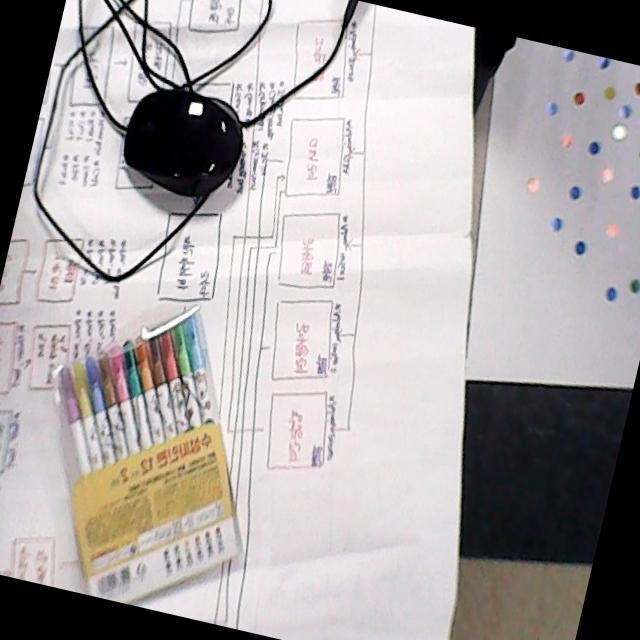mouse: (113, 83, 250, 207)
signpen: (41, 296, 244, 603)
